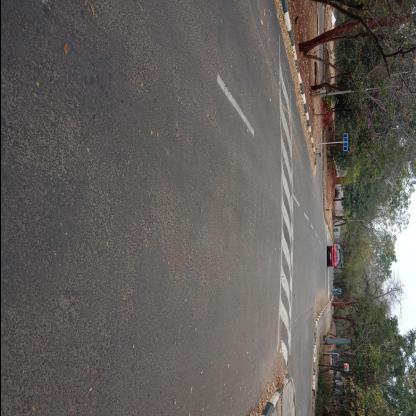speed-bumps: (268, 54, 300, 375)
